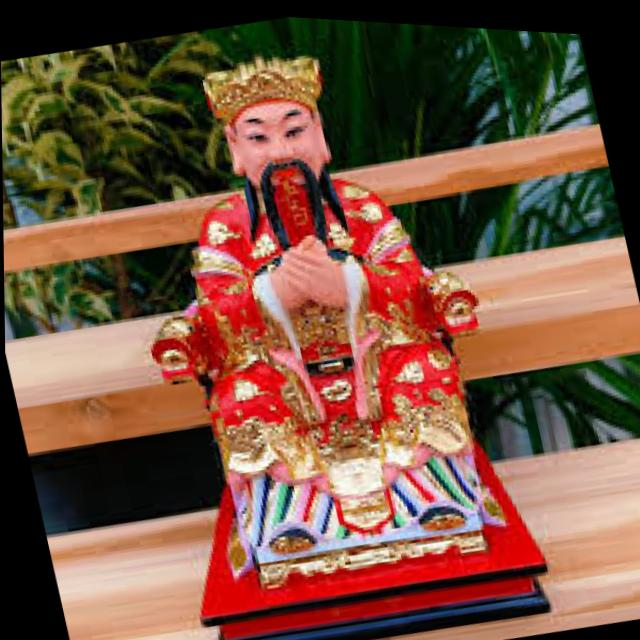Cai shen: (140, 25, 464, 460)
